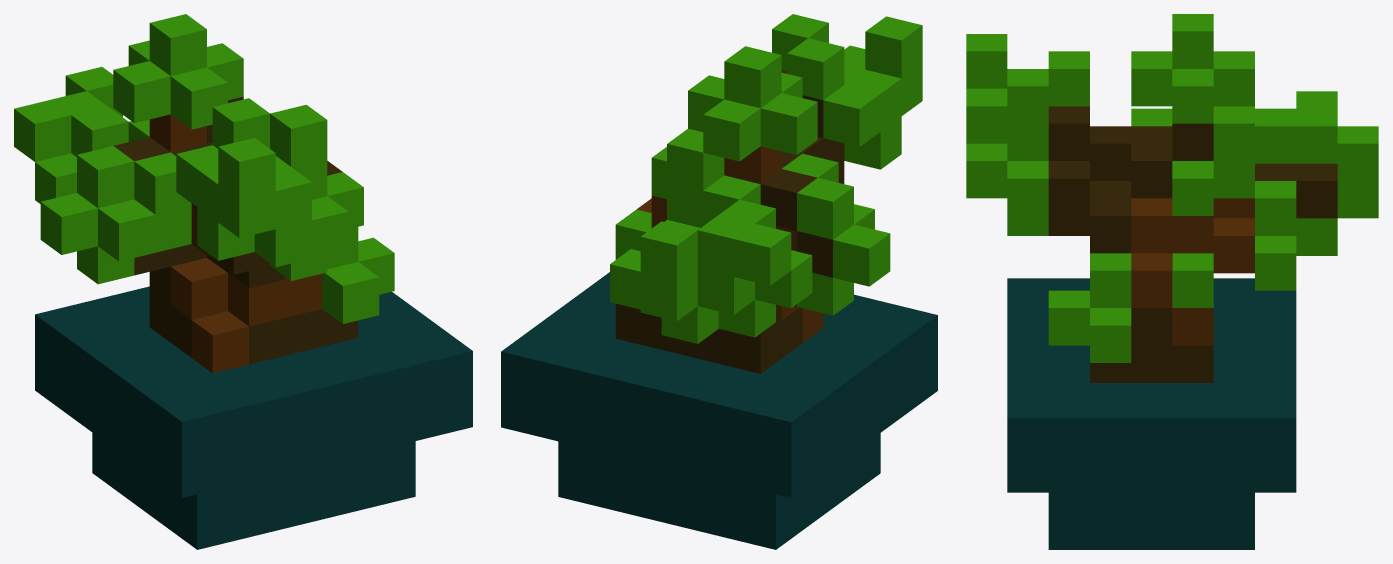
The model's file is bonzaï.obj.
3 renders of one model, left to right at view 1: azimuth 30°, elevation 25°; view 2: azimuth 150°, elevation 25°; view 3: azimuth 270°, elevation 25°, orthographic.
Size of the model in its own units: 0.9 by 1.2 by 1.
Materials: 1 (1 with a texture image).
